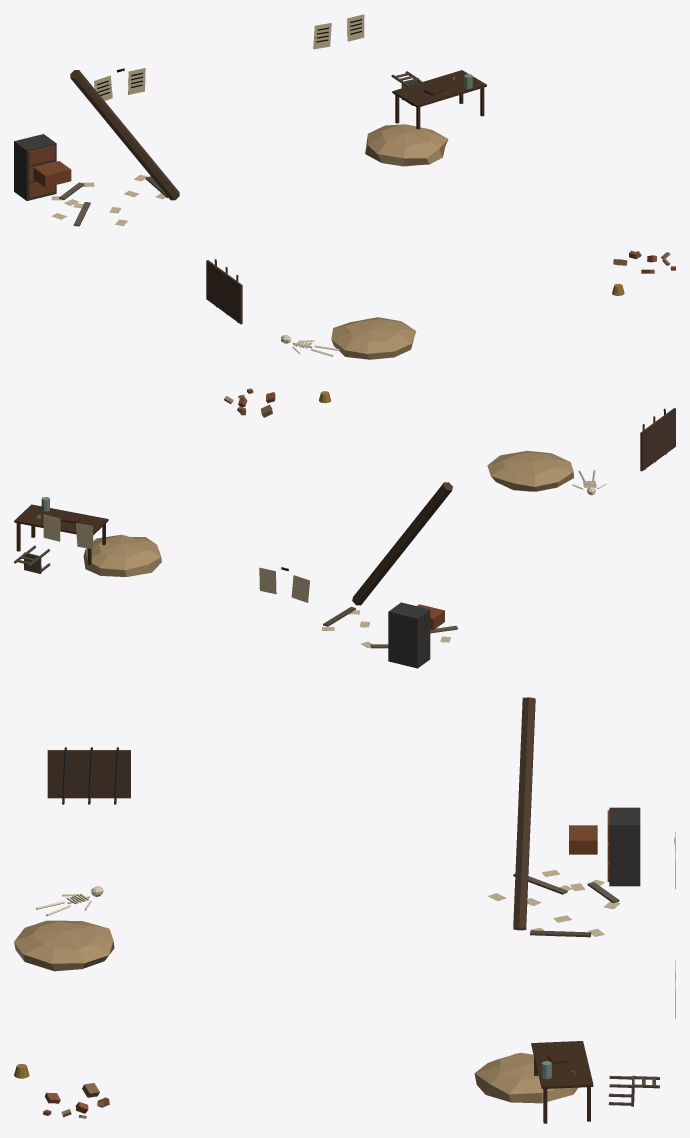
The model's file is TownRoom_sheriff.glb.
The picture shows the model from 3 angles, top to bottom: view 1: azimuth 30°, elevation 25°; view 2: azimuth 150°, elevation 25°; view 3: azimuth 270°, elevation 25°; orthographic projection. The views are drawn at different scales.
Visible parts, largest first — view 1: TownRoom_sheriff.001; view 2: TownRoom_sheriff.001; view 3: TownRoom_sheriff.001.
Part boxes in pixels (x1,y1,x2,y2): TownRoom_sheriff.001: (14,14,675,359); TownRoom_sheriff.001: (14,388,675,668); TownRoom_sheriff.001: (14,697,675,1123).
Size of the model in its own units: 12.12 by 4.32 by 12.74.
